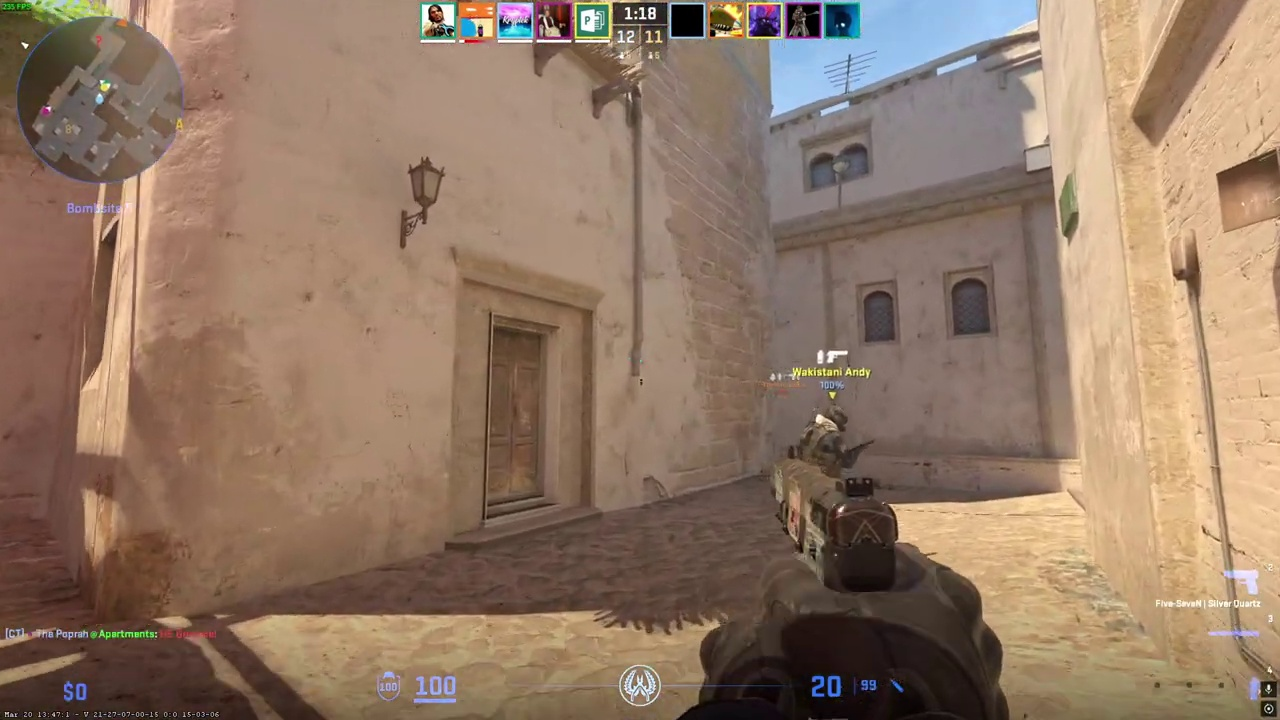CT: (790, 403, 857, 480)
